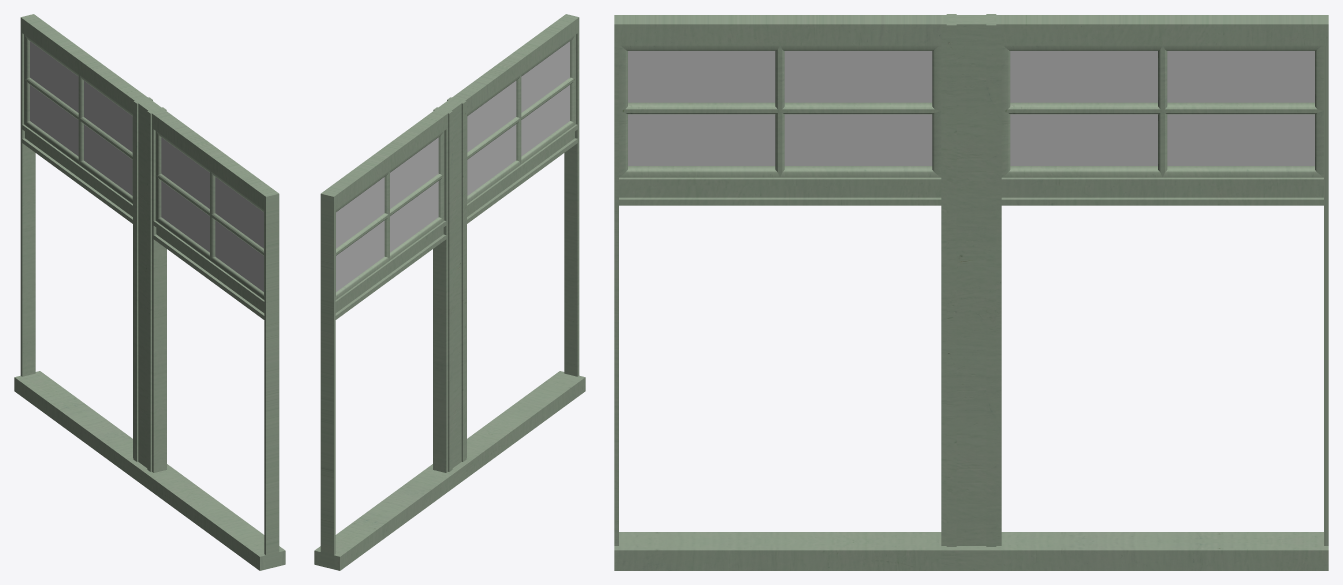
The model's file is SM_WW4_1_Frame.fbx.
3 renders of one model, left to right at view 1: azimuth 30°, elevation 25°; view 2: azimuth 150°, elevation 25°; view 3: azimuth 270°, elevation 25°, orthographic. The views are drawn at different scales.
Visible parts, largest first — view 1: SM_WW4_1_Frame; view 2: SM_WW4_1_Frame; view 3: SM_WW4_1_Frame.
Boxes of the visible parts, bbox=[...] form: SM_WW4_1_Frame: bbox=[14, 14, 285, 570]; SM_WW4_1_Frame: bbox=[314, 14, 585, 570]; SM_WW4_1_Frame: bbox=[614, 14, 1328, 570].
Bounding box in the file's own units: 18.22 × 301 × 252.
Materials: 2 (1 with a texture image).
